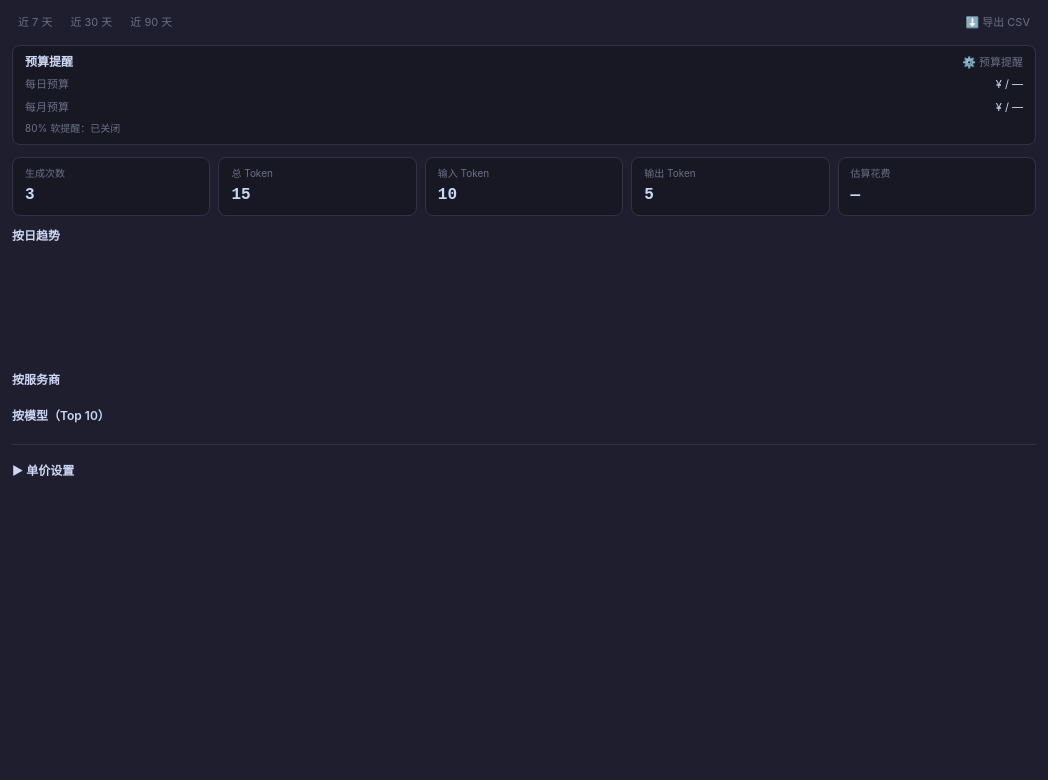
Scenario: 单价设置那份模型清单：首读就失败 ⇒ 那一格补一颗走 `reloadModels` 的键 › 展开⇒那一发失败：那句与那颗键同屏；按键真再发一发；到货后那句收回、空态说话
This screenshot has width=1048, height=780.
Click the button "▶ 单价设置": (43, 471) 12,463 -> 74,479
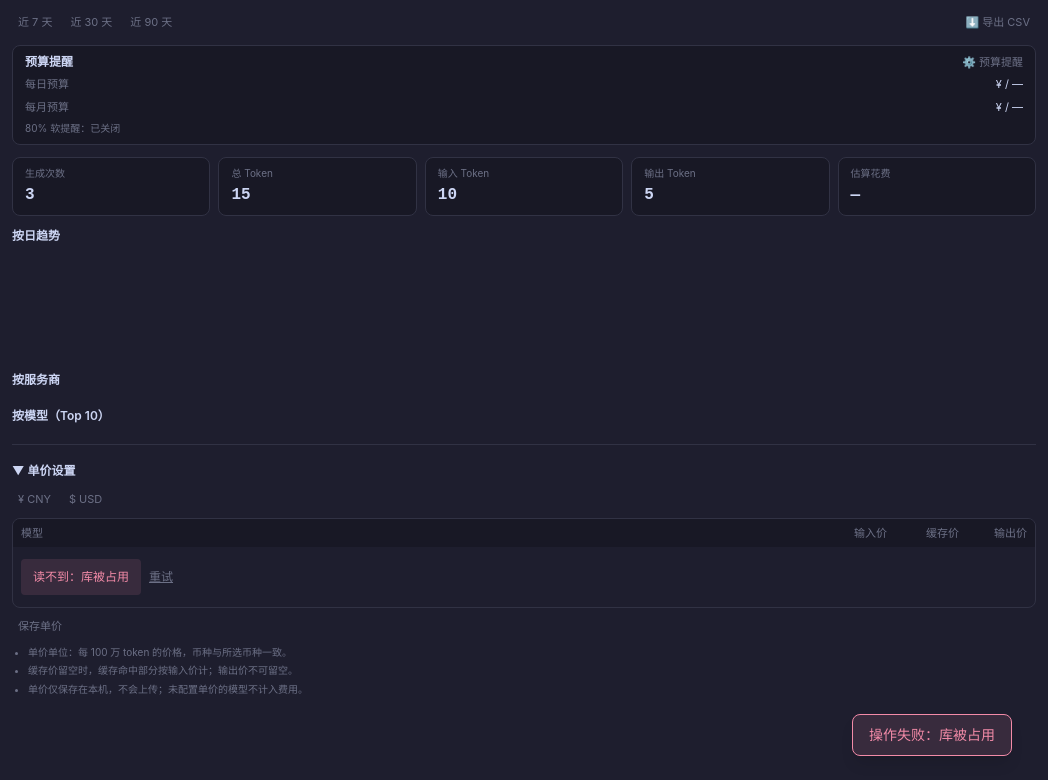
Click the button with test id "price-models-read-retry": (161, 577) 149,569 -> 173,585
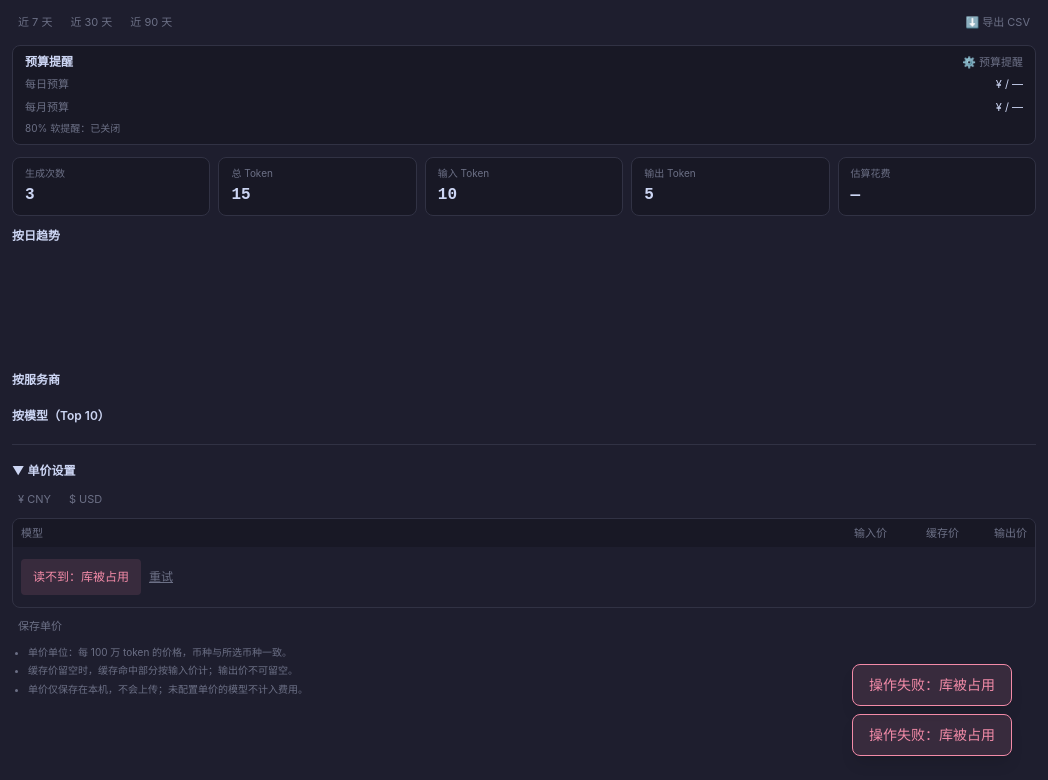
Click the button with test id "price-models-read-retry": (161, 577) 149,569 -> 173,585
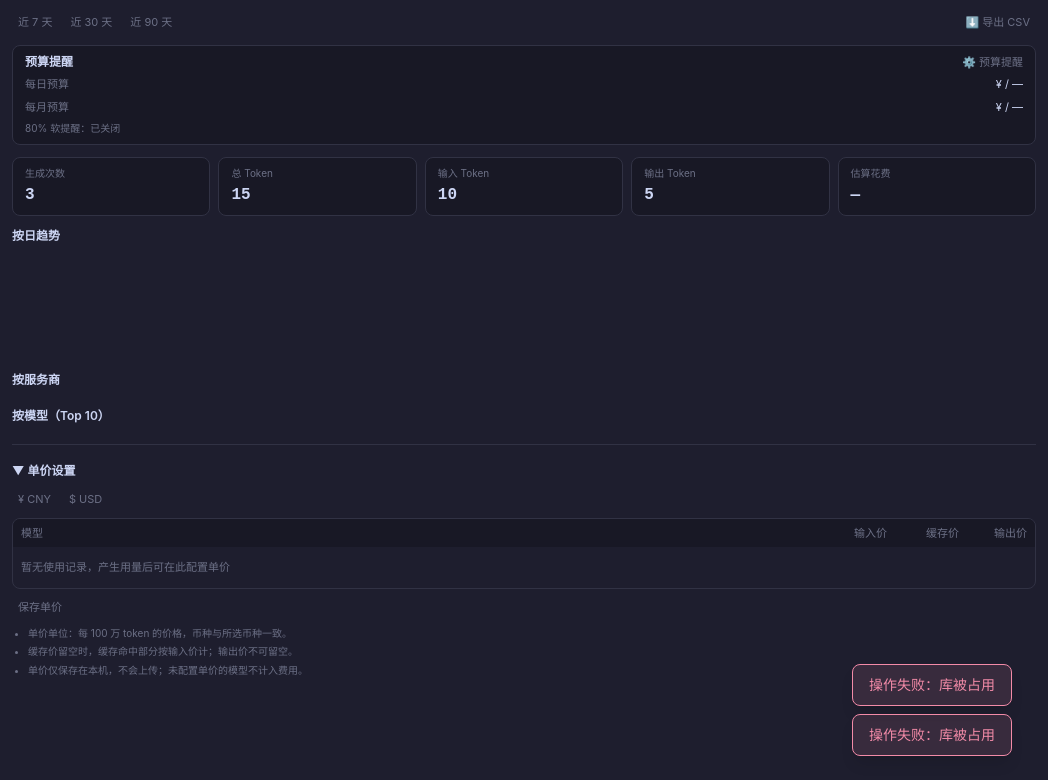
expect the text "暂无使用记录，产生用量后可在此配置单价" is shown: met, box 13,547 -> 1035,588
